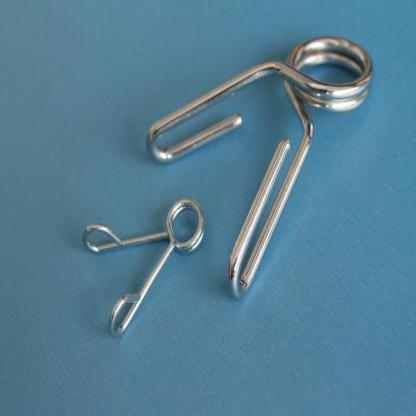FOD: (145, 31, 375, 302), (80, 197, 208, 343)
